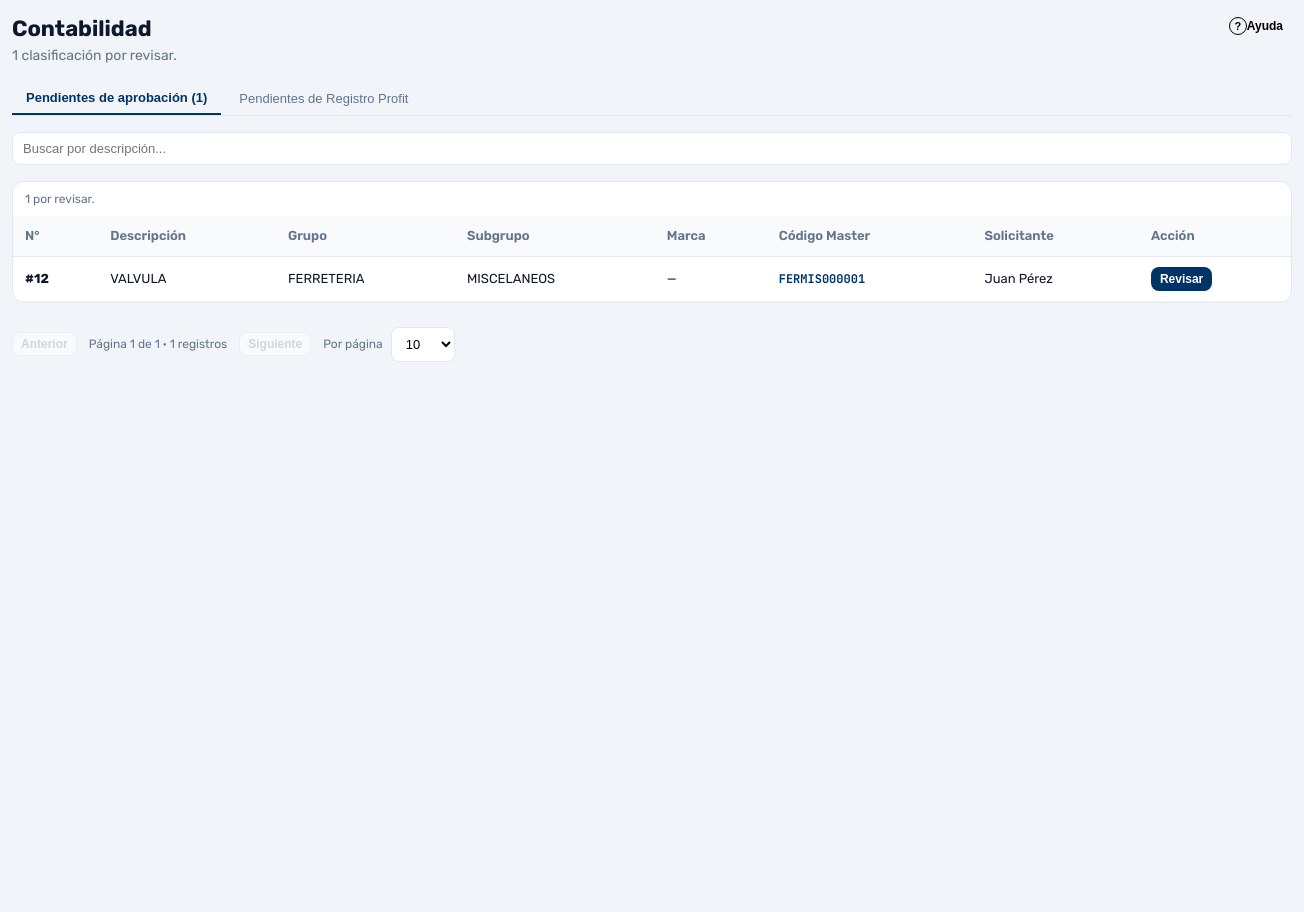
Test: ContabilidadList 11C › 16A — pestaña Profit bloqueada antes de aprobar
Click the button "Revisar".
click(1182, 278)  # box x1=1151 y1=266 x2=1212 y2=290
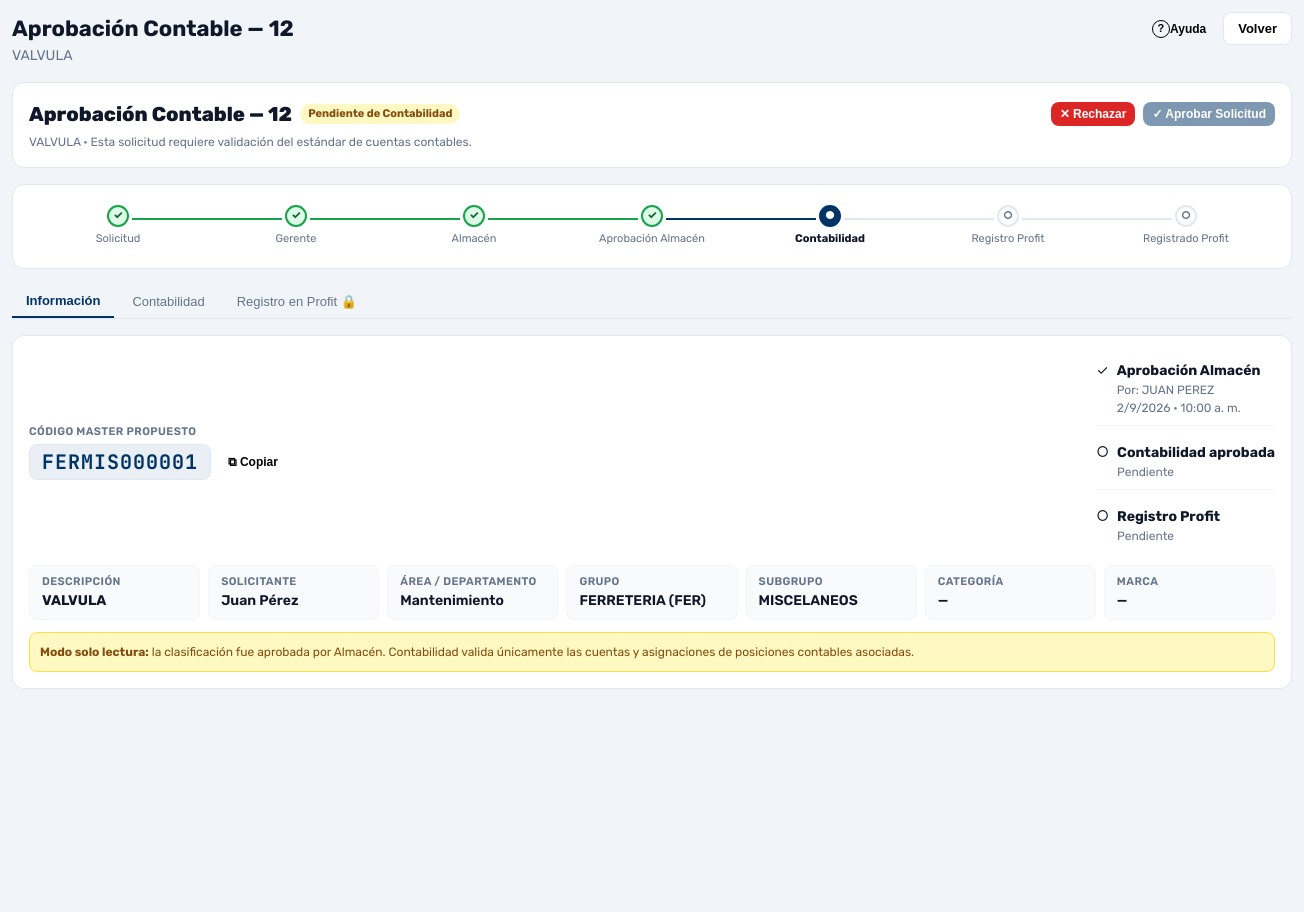
Click the tab "Registro en Profit 🔒".
click(297, 301)  # box x1=223 y1=284 x2=371 y2=318
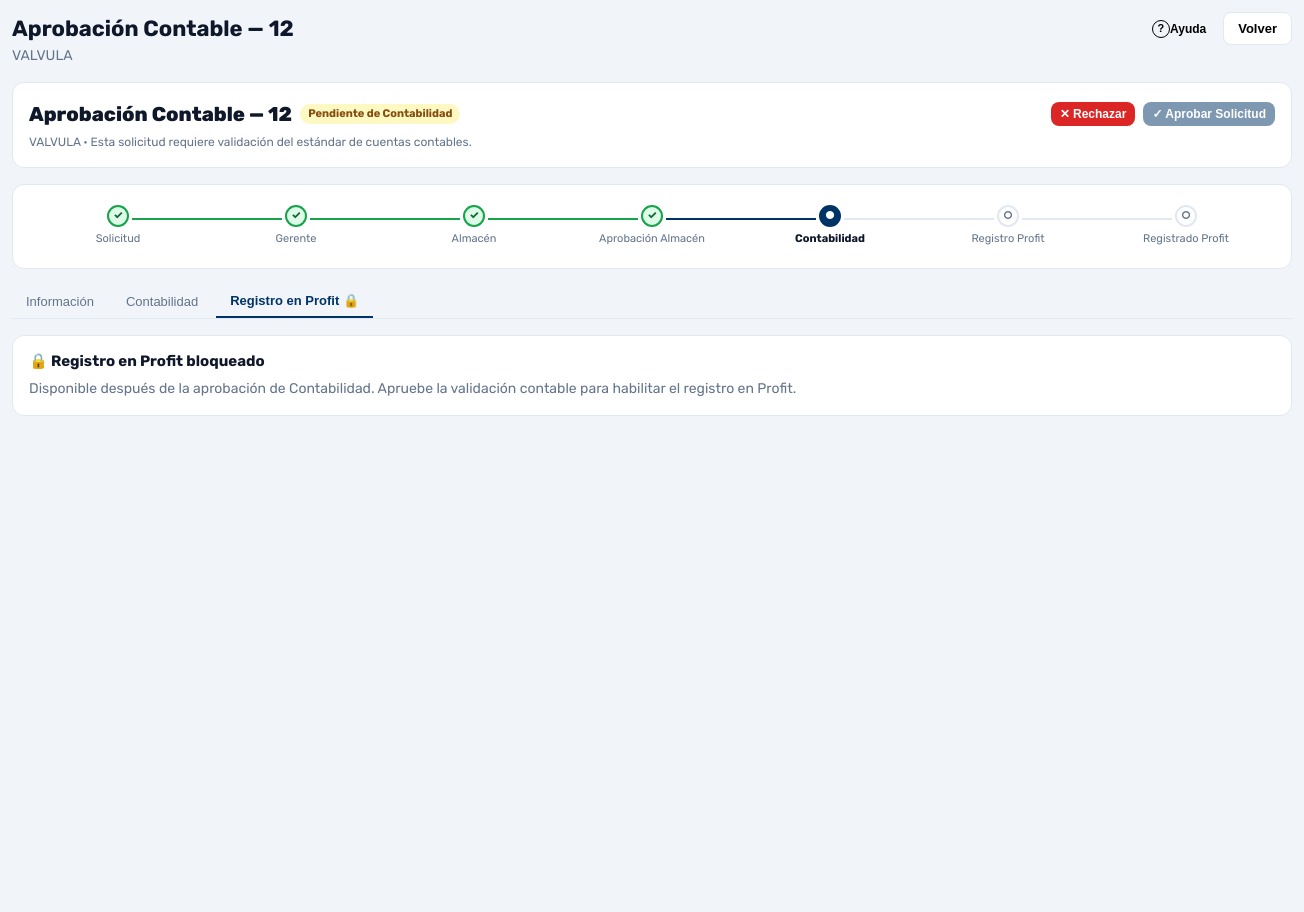
Now the heading "🔒 Registro en Profit bloqueado" is shown, box x1=29 y1=352 x2=265 y2=370
Now the text "después de la aprobación de Contabilidad" is shown, box x1=29 y1=380 x2=796 y2=397
